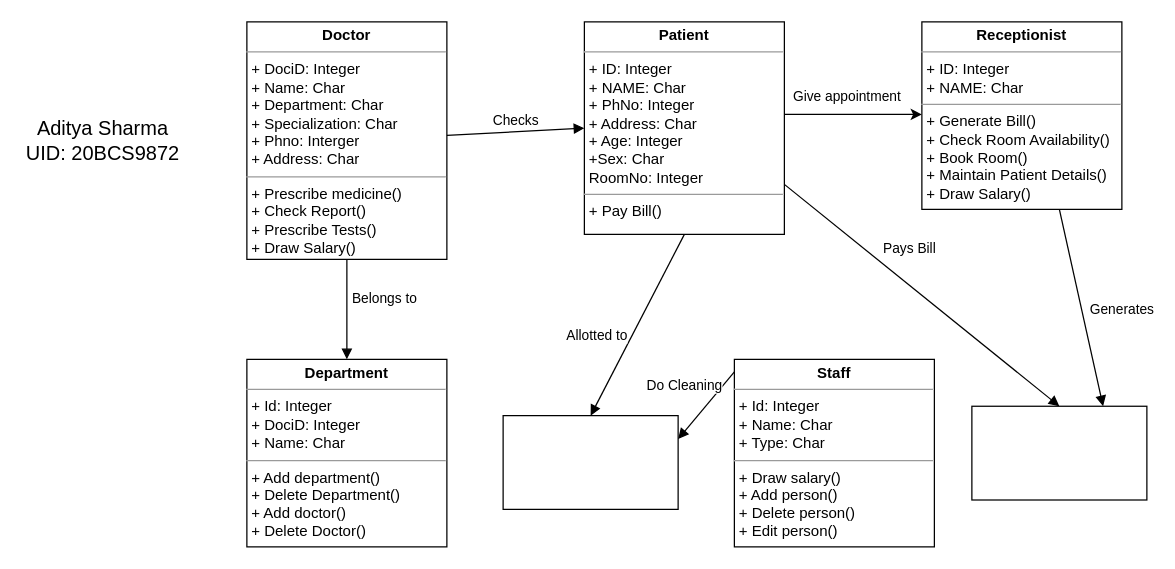
Some shapes in this 1175 by 569 pixel diagram are drawn without their labels. Here are the shapes that lost their labels. From the top down, the centre of each, then its label:
At [590,461]: "Room + RoomNo: Integer + FloorNo: Integer".
At [1059,452]: "Bill + BillNo: Integer + PatientName: Char + Amount: Float".
